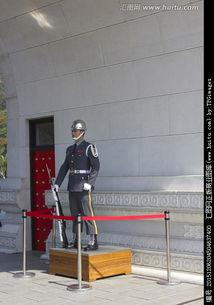up: (37, 117, 103, 248)
